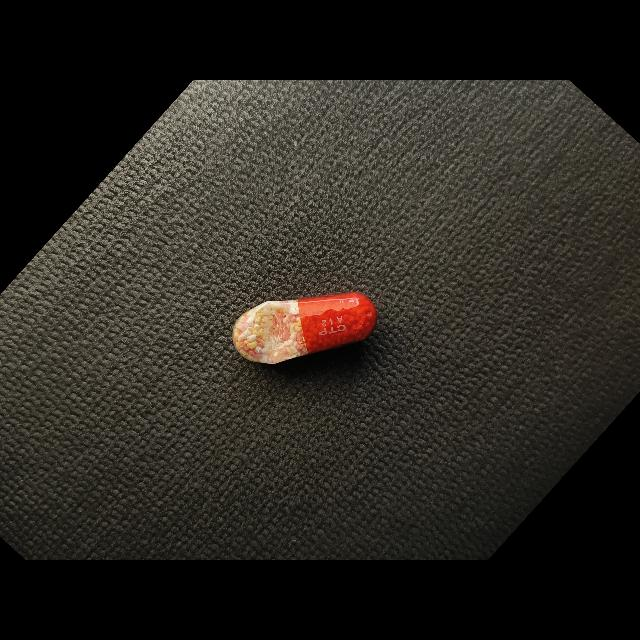Defective Capsule: (233, 292, 377, 364)
